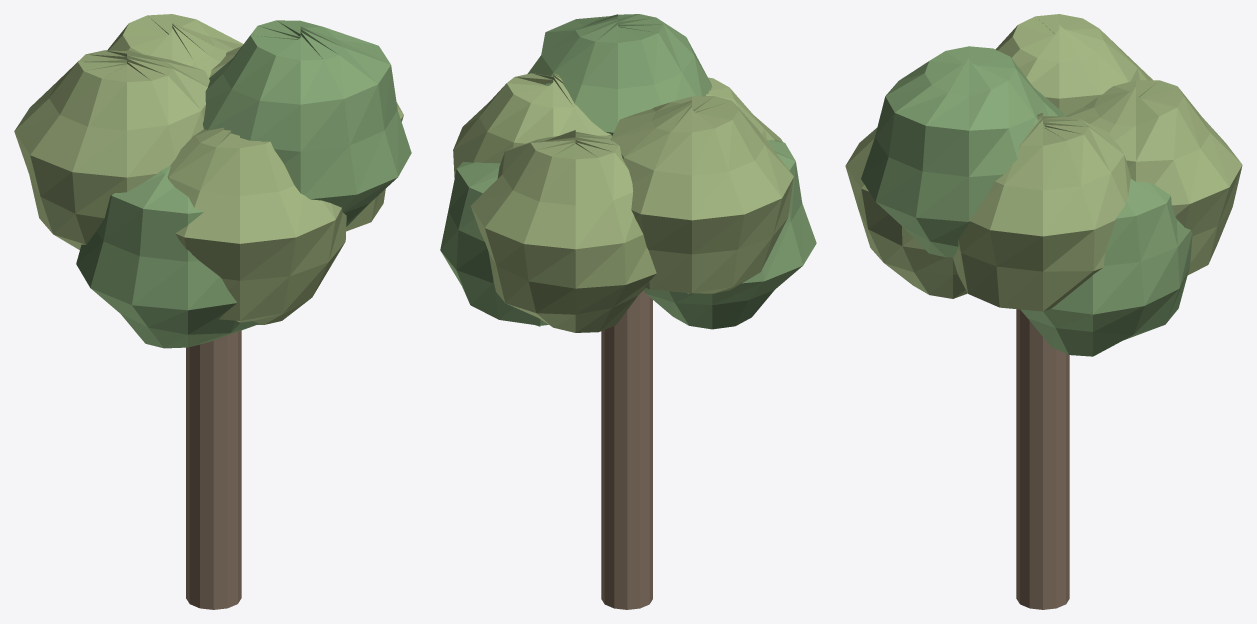
The model's file is deciduous_tree.gltf.
The picture shows the model from 3 angles, left to right: view 1: azimuth 30°, elevation 25°; view 2: azimuth 150°, elevation 25°; view 3: azimuth 270°, elevation 25°; orthographic projection. The views are drawn at different scales.
Visible parts, largest first — view 1: Crown_3, Crown_4, Crown_6, Crown_1, Trunk, Crown_2, Crown_0; view 2: Crown_2, Crown_4, Trunk, Crown_3, Crown_0, Crown_1, Crown_5, Crown_6; view 3: Crown_3, Crown_0, Crown_5, Trunk, Crown_2, Crown_4, Crown_6.
Boxes of the visible parts, x1,y1,x2,y2 form: Crown_3: (203, 20, 411, 226); Crown_4: (14, 50, 209, 249); Crown_6: (167, 127, 346, 324); Crown_1: (76, 166, 258, 348); Trunk: (186, 330, 241, 609); Crown_2: (107, 14, 243, 77); Crown_0: (209, 46, 403, 231); Crown_2: (471, 130, 656, 332); Crown_4: (611, 96, 793, 293); Trunk: (601, 290, 652, 609); Crown_3: (527, 14, 712, 135); Crown_0: (453, 73, 611, 177); Crown_1: (644, 139, 816, 329); Crown_5: (440, 162, 548, 326); Crown_6: (706, 77, 782, 141); Crown_3: (861, 46, 1065, 257); Crown_0: (953, 113, 1130, 311); Crown_5: (1020, 179, 1192, 356); Trunk: (1016, 309, 1069, 609); Crown_2: (1065, 80, 1242, 274); Crown_4: (995, 14, 1152, 115); Crown_6: (845, 128, 967, 298).
Size of the model in its own units: 2.92 by 4.67 by 2.98.
